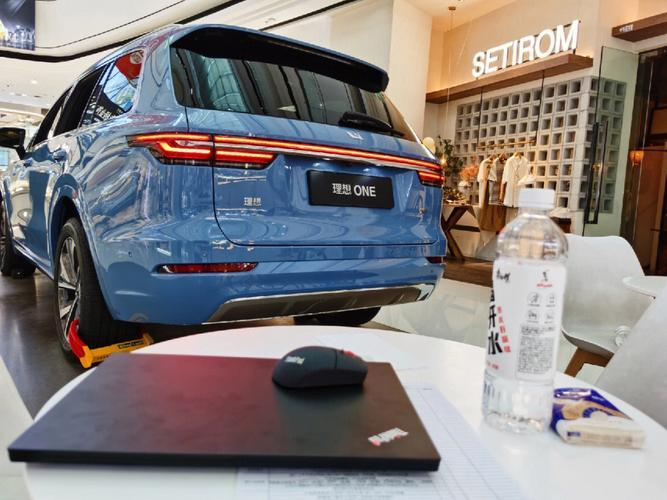Li Auto: (345, 130, 364, 142)
